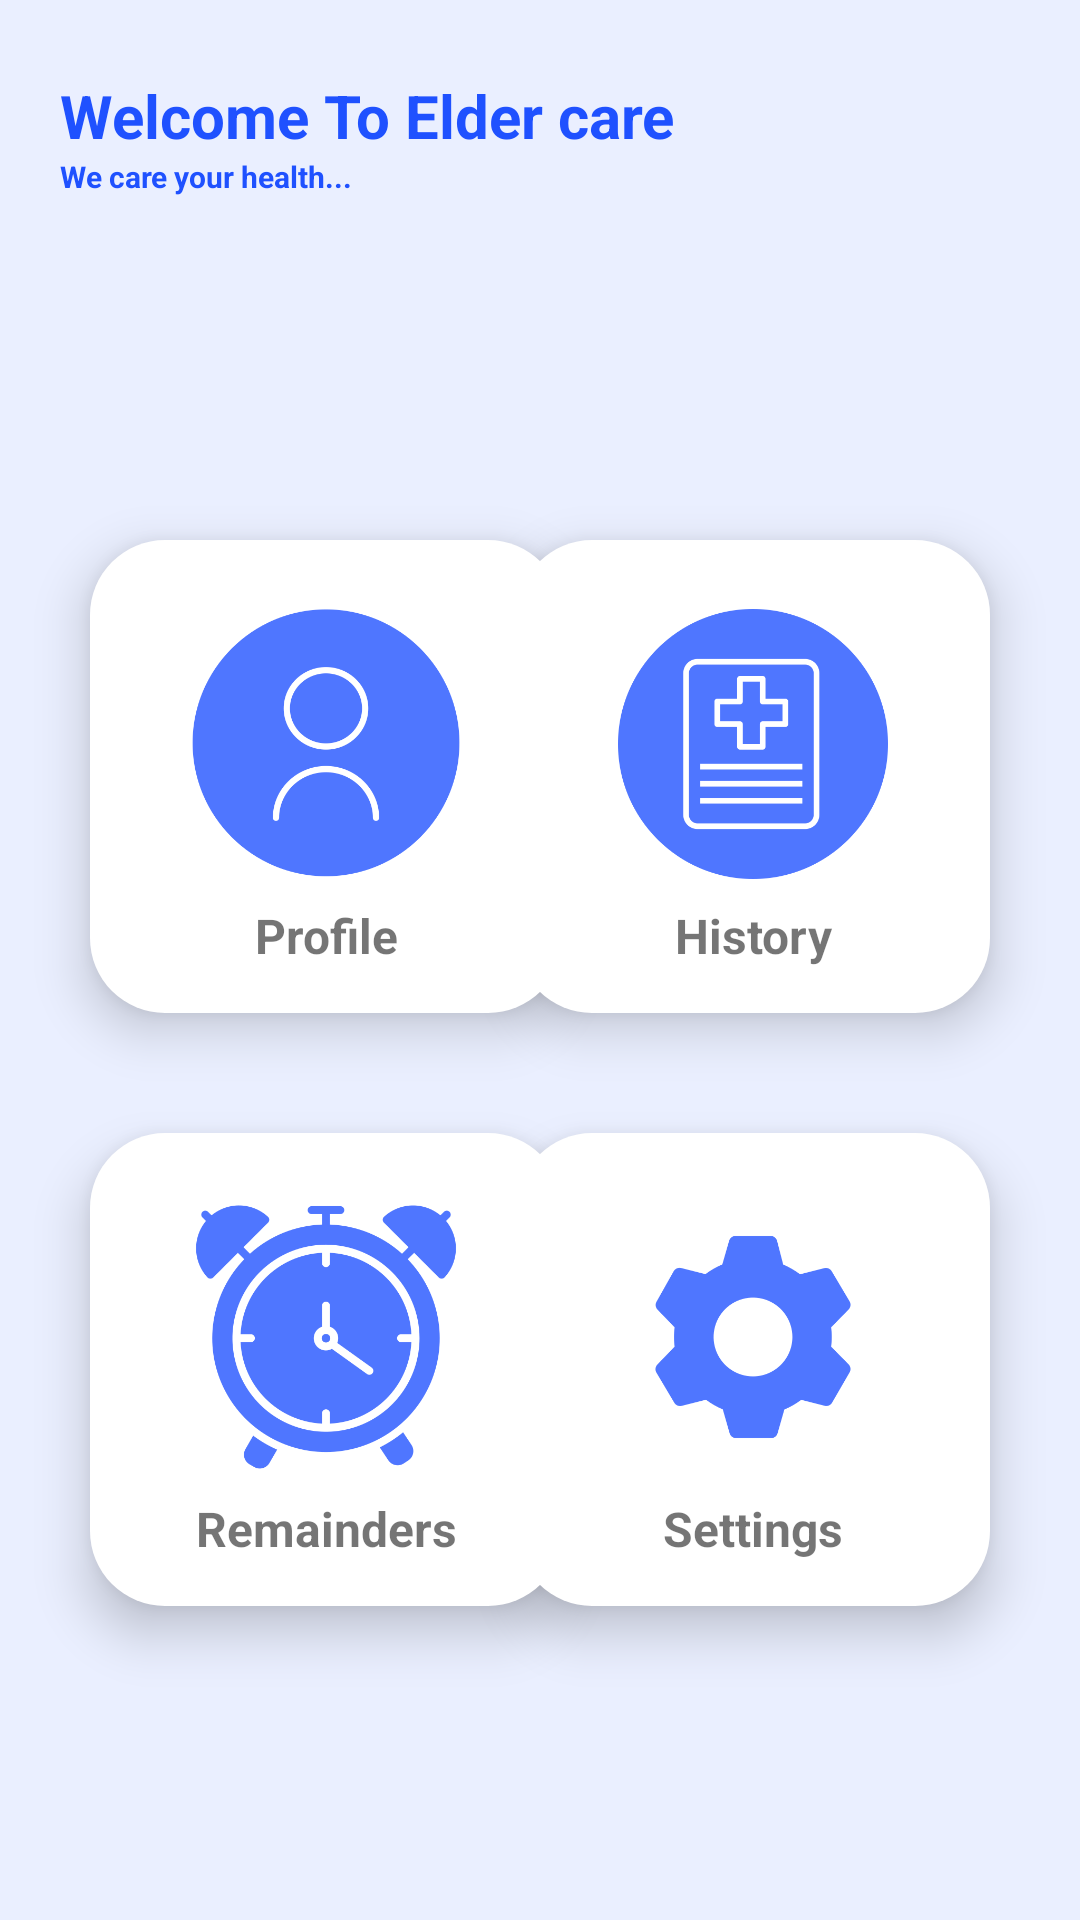

Where to tap for icons on this 1080 × 1920 app screen, as point (x, y):
alarmclock: point (326, 1337)
